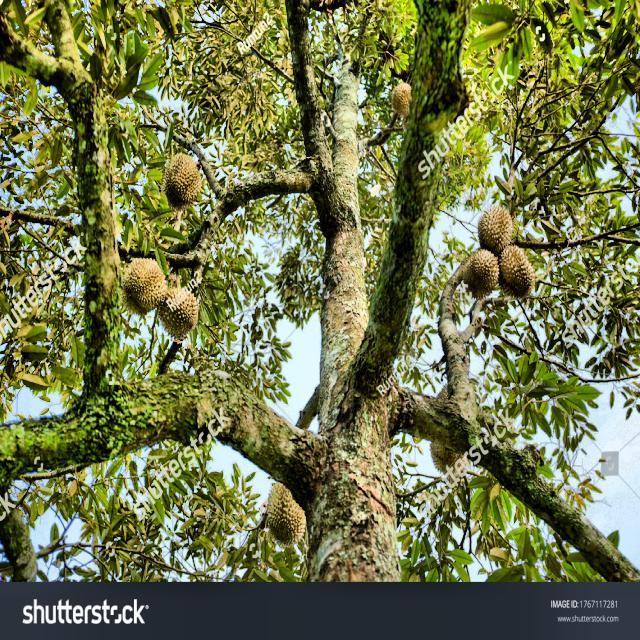arvore: (288, 36, 416, 595)
